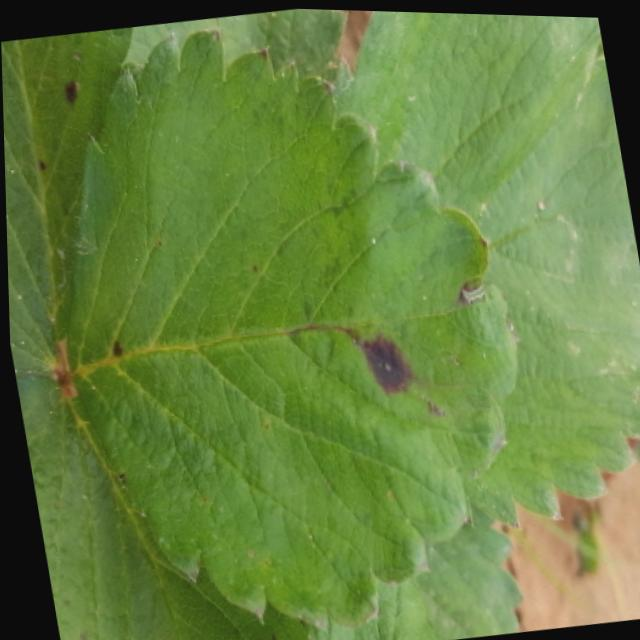Leaf Spot: (61, 29, 518, 632), (13, 373, 311, 640), (1, 26, 135, 374), (306, 499, 521, 640)
